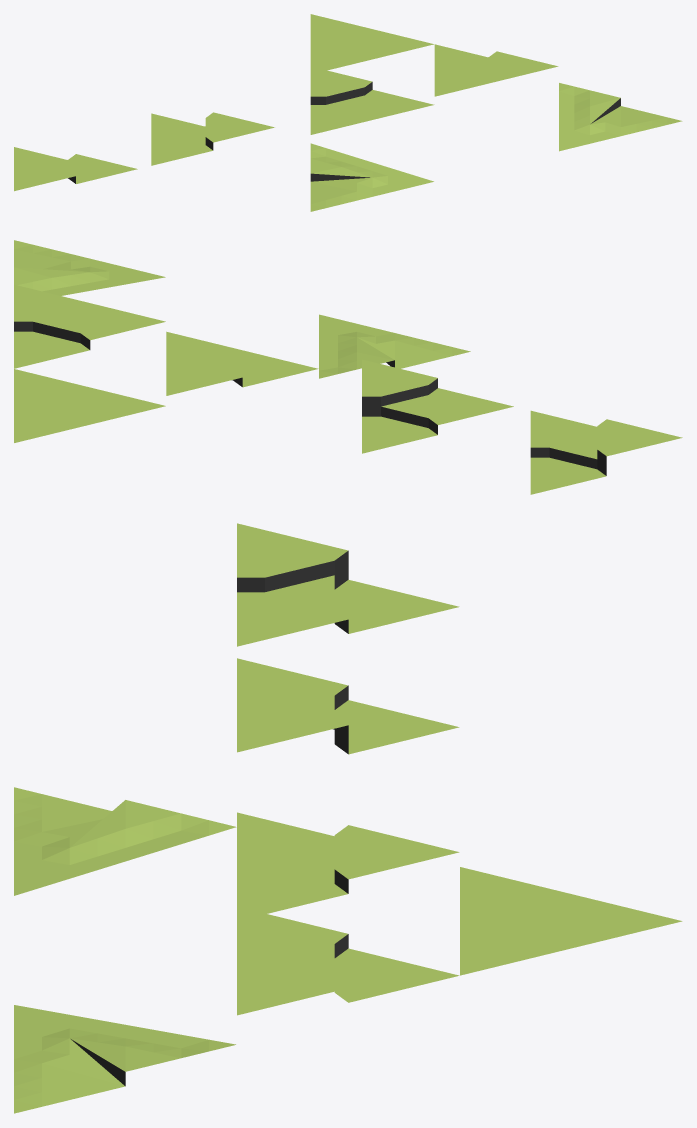
The model's file is tile_set_a.dae.
3 renders of one model, top to bottom at view 1: azimuth 30°, elevation 25°; view 2: azimuth 150°, elevation 25°; view 3: azimuth 270°, elevation 25°, orthographic. The views are drawn at different scales.
Visible parts, largest first — view 1: tile_cliff_1_convex_a (×3), tile_cliff_1_end_left_a, tile_cliff_1_end_right_a, tile_flat_grass_a, tile_cliff_2_split_left_a (×3), tile_cliff_1_concave_a (×2), tile_cliff_2_split_right_a (×3); view 2: tile_cliff_2_split_left_a (×4), tile_cliff_2_split_right_a (×4), tile_cliff_1_concave_a (×3), tile_flat_grass_a, tile_cliff_1_convex_a (×2), tile_cliff_1_end_right_a, tile_cliff_1_end_left_a; view 3: tile_cliff_2_split_right_a (×4), tile_cliff_1_end_right_a, tile_flat_grass_a, tile_cliff_1_concave_a (×2), tile_cliff_1_convex_a (×2), tile_cliff_1_end_left_a, tile_cliff_2_split_left_a (×3).
Part boxes in pixels (x1,y1,x2,y2): tile_cliff_1_convex_a (×3): (310, 66, 434, 134); tile_cliff_1_end_left_a: (559, 83, 682, 151); tile_cliff_1_end_right_a: (310, 143, 433, 211); tile_flat_grass_a: (310, 14, 433, 70); tile_cliff_2_split_left_a (×3): (151, 112, 274, 165); tile_cliff_1_concave_a (×2): (434, 44, 558, 96); tile_cliff_2_split_right_a (×3): (14, 147, 137, 191); tile_cliff_2_split_left_a (×4): (362, 359, 513, 453); tile_cliff_2_split_right_a (×4): (530, 410, 682, 494); tile_cliff_1_concave_a (×3): (14, 284, 165, 368); tile_flat_grass_a: (14, 369, 165, 442); tile_cliff_1_convex_a (×2): (166, 331, 318, 395); tile_cliff_1_end_right_a: (319, 314, 470, 378); tile_cliff_1_end_left_a: (14, 240, 165, 295); tile_cliff_2_split_right_a (×4): (237, 523, 459, 646); tile_cliff_1_end_right_a: (14, 787, 236, 895); tile_flat_grass_a: (460, 867, 682, 975); tile_cliff_1_concave_a (×2): (237, 906, 459, 1015); tile_cliff_1_convex_a (×2): (237, 812, 459, 913); tile_cliff_1_end_left_a: (14, 1005, 235, 1113); tile_cliff_2_split_left_a (×3): (237, 658, 459, 754).
Bounding box in the file's own units: 2310 × 1227 × 118.
